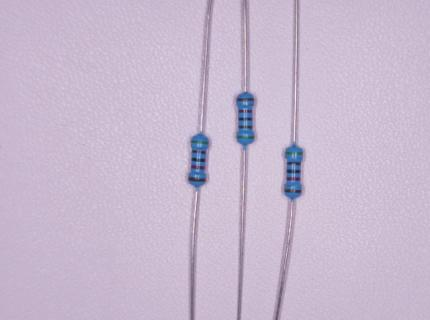Black band: (191, 157, 206, 162), (286, 169, 301, 174), (238, 117, 253, 121)
Brown band: (188, 177, 206, 182), (284, 189, 302, 194), (236, 98, 255, 102), (192, 150, 206, 155), (238, 125, 253, 129), (287, 162, 301, 166)
Green band: (191, 140, 209, 145), (236, 135, 255, 139), (285, 151, 303, 155)
Red band: (191, 165, 205, 170), (238, 109, 253, 113), (286, 177, 301, 181)
